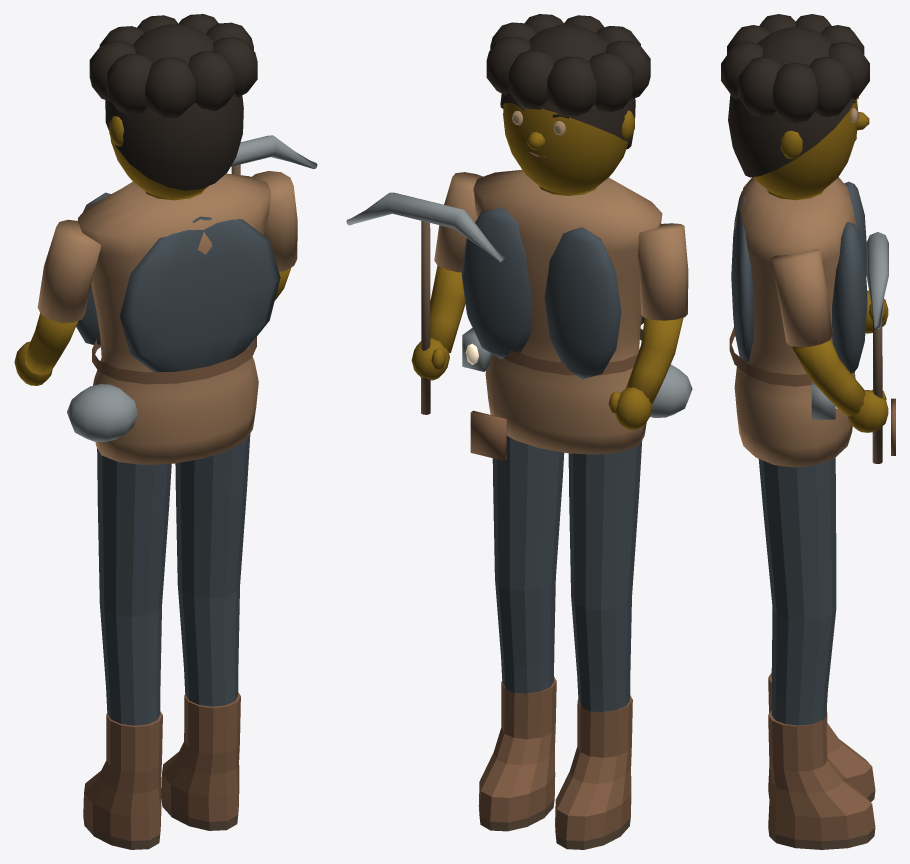
File: SM_NPC_BRASA.glb
3 views of the same model, side by side, from view 1: azimuth 30°, elevation 25°; view 2: azimuth 150°, elevation 25°; view 3: azimuth 270°, elevation 25° (orthographic). The views are drawn at different scales.
Visible parts, largest first — view 1: SM_NPC_BRASA_BODY, SM_NPC_BRASA_LEG_L, SM_NPC_BRASA_LEG_R, SM_NPC_BRASA_HAIR, SM_NPC_BRASA_ARM_L, SM_NPC_BRASA_ARM_R, SM_NPC_BRASA_HEAD; view 2: SM_NPC_BRASA_BODY, SM_NPC_BRASA_LEG_L, SM_NPC_BRASA_LEG_R, SM_NPC_BRASA_HAIR, SM_NPC_BRASA_ARM_R, SM_NPC_BRASA_ARM_L, SM_NPC_BRASA_HEAD; view 3: SM_NPC_BRASA_BODY, SM_NPC_BRASA_LEG_R, SM_NPC_BRASA_HAIR, SM_NPC_BRASA_ARM_R, SM_NPC_BRASA_HEAD, SM_NPC_BRASA_LEG_L, SM_NPC_BRASA_ARM_L.
Part boxes in pixels (bbox=[...]): SM_NPC_BRASA_BODY: bbox=[67, 173, 280, 464]; SM_NPC_BRASA_LEG_L: bbox=[83, 448, 171, 849]; SM_NPC_BRASA_LEG_R: bbox=[161, 434, 250, 830]; SM_NPC_BRASA_HAIR: bbox=[89, 14, 257, 190]; SM_NPC_BRASA_ARM_L: bbox=[14, 219, 100, 385]; SM_NPC_BRASA_ARM_R: bbox=[231, 135, 317, 300]; SM_NPC_BRASA_HEAD: bbox=[109, 99, 242, 197]; SM_NPC_BRASA_BODY: bbox=[461, 170, 692, 460]; SM_NPC_BRASA_LEG_L: bbox=[555, 440, 642, 849]; SM_NPC_BRASA_LEG_R: bbox=[478, 436, 564, 831]; SM_NPC_BRASA_HAIR: bbox=[486, 14, 650, 149]; SM_NPC_BRASA_ARM_R: bbox=[346, 172, 504, 414]; SM_NPC_BRASA_ARM_L: bbox=[608, 223, 688, 429]; SM_NPC_BRASA_HEAD: bbox=[503, 103, 634, 193]; SM_NPC_BRASA_BODY: bbox=[729, 177, 895, 467]; SM_NPC_BRASA_LEG_R: bbox=[758, 458, 875, 849]; SM_NPC_BRASA_HAIR: bbox=[721, 14, 869, 177]; SM_NPC_BRASA_ARM_R: bbox=[771, 232, 888, 463]; SM_NPC_BRASA_HEAD: bbox=[753, 98, 869, 198]; SM_NPC_BRASA_LEG_L: bbox=[768, 457, 875, 801]; SM_NPC_BRASA_ARM_L: bbox=[865, 290, 888, 333].
Size of the model in its own units: 0.7365 by 1.81 by 0.3655.
